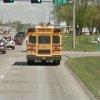Bus: (25, 22, 69, 71)
